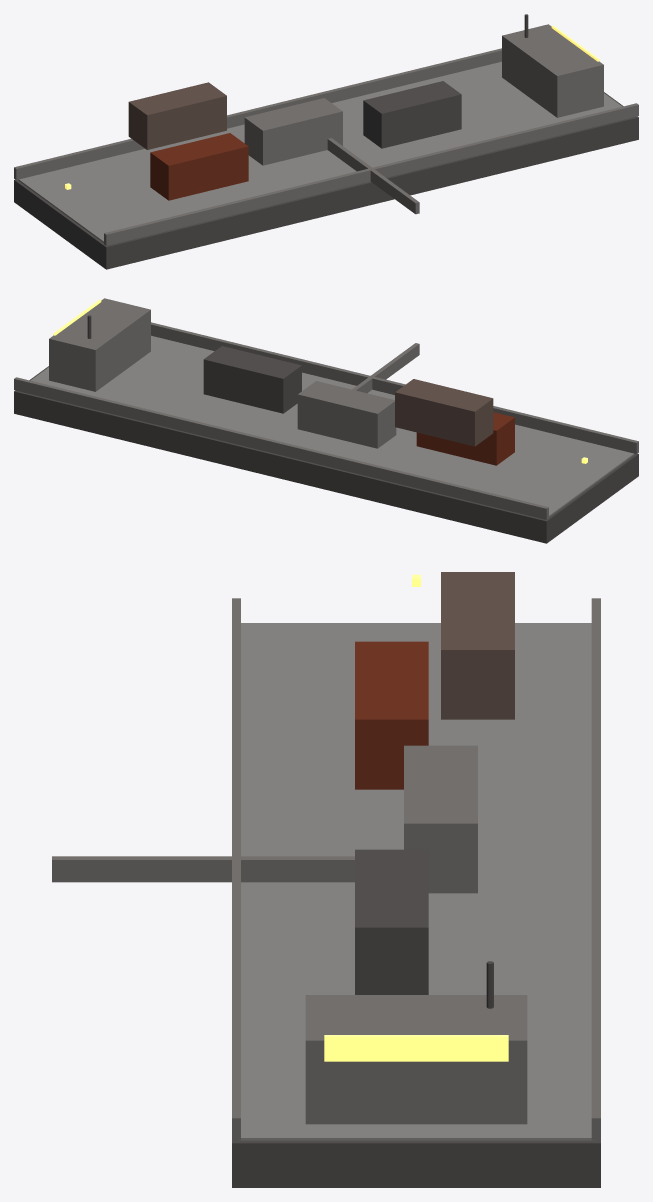
The model's file is B_barge.glb.
3 renders of one model, top to bottom at view 1: azimuth 30°, elevation 25°; view 2: azimuth 150°, elevation 25°; view 3: azimuth 270°, elevation 25°, orthographic. The views are drawn at different scales.
Parts seen in each view (by area): view 1: Cube.001, Cube, Cube.002, Cube.009, Cube.003, Cube.008, Cube.005, Cube.006, Cube.007, Cube.004; view 2: Cube.001, Cube, Cube.003, Cube.009, Cube.006, Cube.007, Cube.008, Cube.002, Cube.005, Cube.004; view 3: Cube.001, Cube.009, Cube, Cube.006, Cube.008, Cube.007, Cube.005, Cube.004, Cube.003, Cube.010, Cube.002.
Part boxes in pixels (<box>): Cube.001: <box>18,61,621,242</box>; Cube: <box>14,92,638,269</box>; Cube.002: <box>104,103,638,245</box>; Cube.009: <box>502,24,603,117</box>; Cube.003: <box>14,48,501,179</box>; Cube.008: <box>363,81,461,148</box>; Cube.005: <box>150,133,248,200</box>; Cube.006: <box>128,82,226,149</box>; Cube.007: <box>244,98,342,165</box>; Cube.004: <box>327,138,419,214</box>; Cube.001: <box>31,335,634,516</box>; Cube: <box>14,366,638,543</box>; Cube.003: <box>14,377,548,519</box>; Cube.009: <box>49,298,150,391</box>; Cube.006: <box>395,379,493,446</box>; Cube.007: <box>297,381,396,448</box>; Cube.008: <box>203,346,301,413</box>; Cube.002: <box>151,322,638,453</box>; Cube.005: <box>416,412,514,465</box>; Cube.004: <box>352,343,419,393</box>; Cube.001: <box>238,623,594,1140</box>; Cube.009: <box>305,995,527,1124</box>; Cube: <box>232,1140,600,1187</box>; Cube.006: <box>441,572,514,719</box>; Cube.008: <box>355,849,428,994</box>; Cube.007: <box>404,745,477,893</box>; Cube.005: <box>355,641,428,789</box>; Cube.004: <box>52,856,354,882</box>; Cube.003: <box>591,598,600,1140</box>; Cube.010: <box>324,1035,508,1061</box>; Cube.002: <box>232,598,240,1140</box>.
Bounding box in the file's own units: 40 × 6.7 × 17.85.
